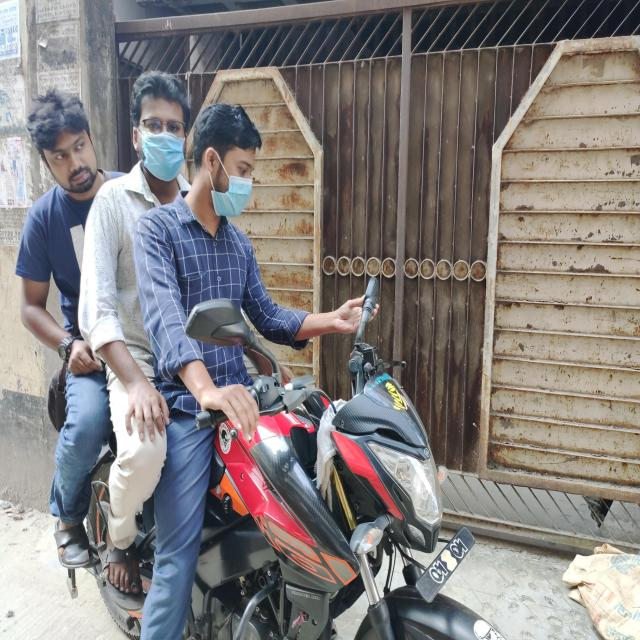triple_rider: (18, 69, 503, 640)
